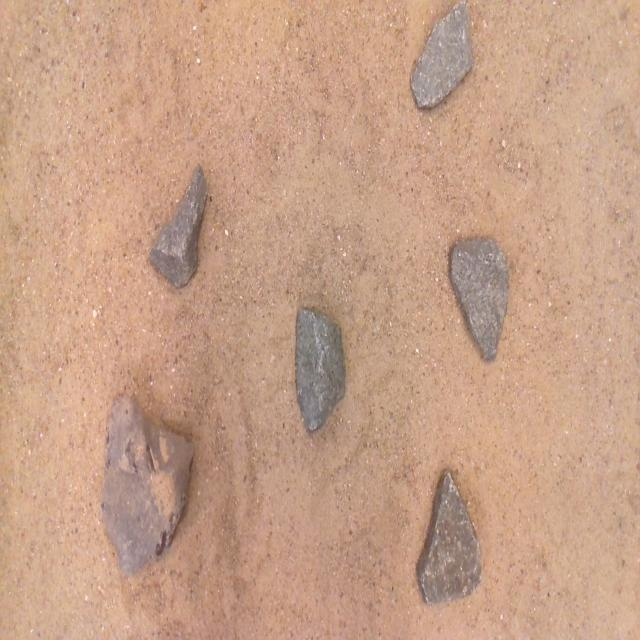rock: (101, 396, 193, 575), (417, 471, 481, 603), (149, 165, 208, 287), (451, 238, 508, 360), (411, 2, 473, 107), (296, 308, 345, 431)
